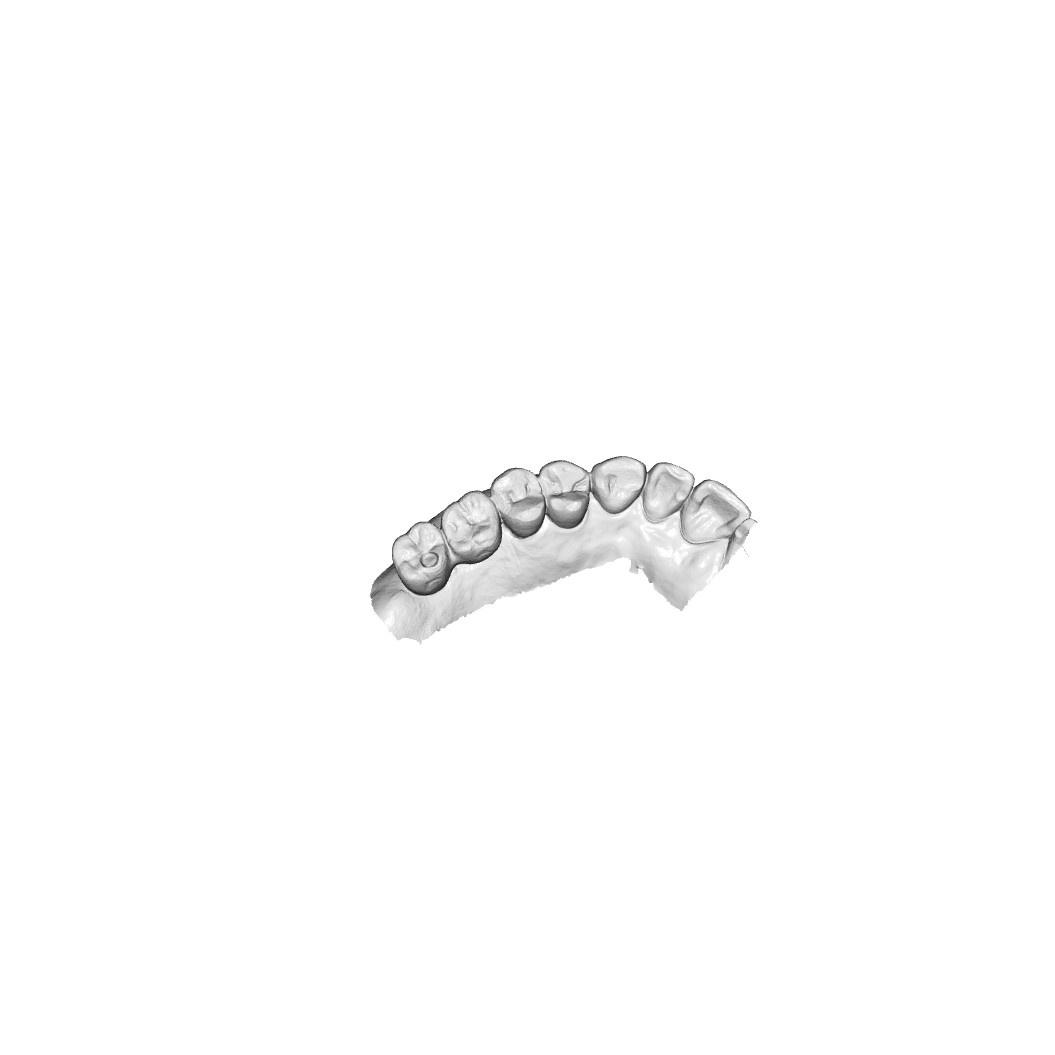canine: (594, 457, 646, 514)
incisor: (684, 482, 746, 546), (641, 463, 697, 524)
molar: (390, 521, 451, 597), (441, 489, 498, 561)
premolar: (492, 468, 549, 537), (543, 459, 589, 527)
